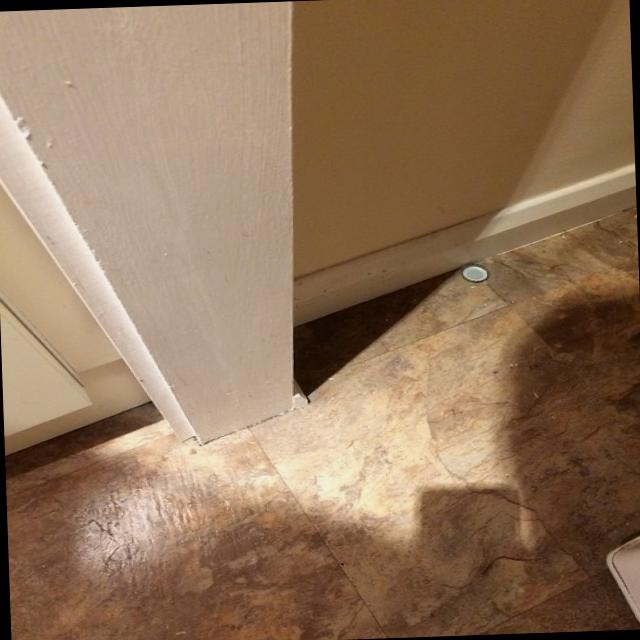Recycle: (458, 262, 490, 286)
